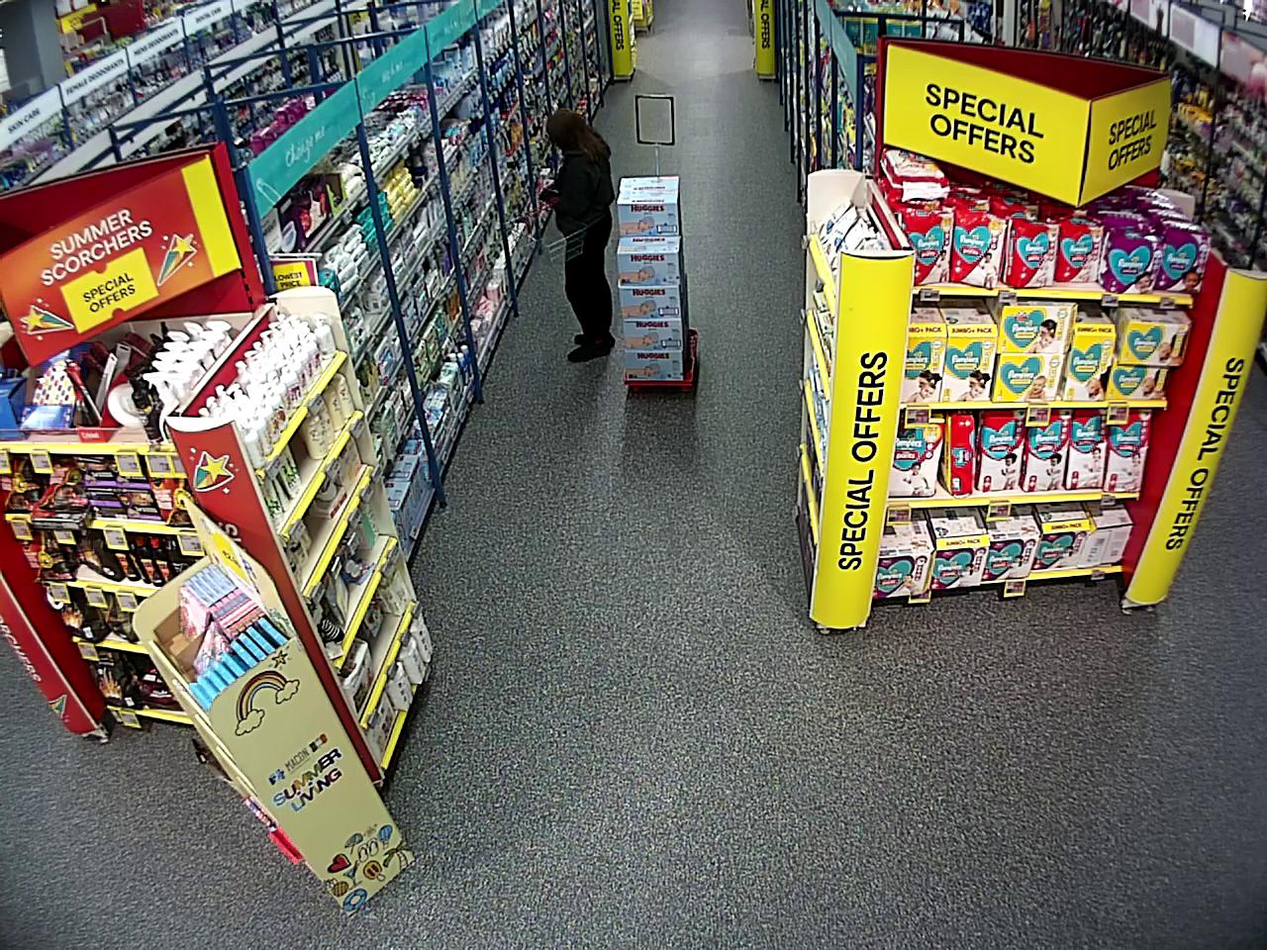empty-basket: (511, 201, 588, 267)
person: (538, 110, 616, 363)
person-with-empty-basket-trolly: (511, 110, 615, 363)
